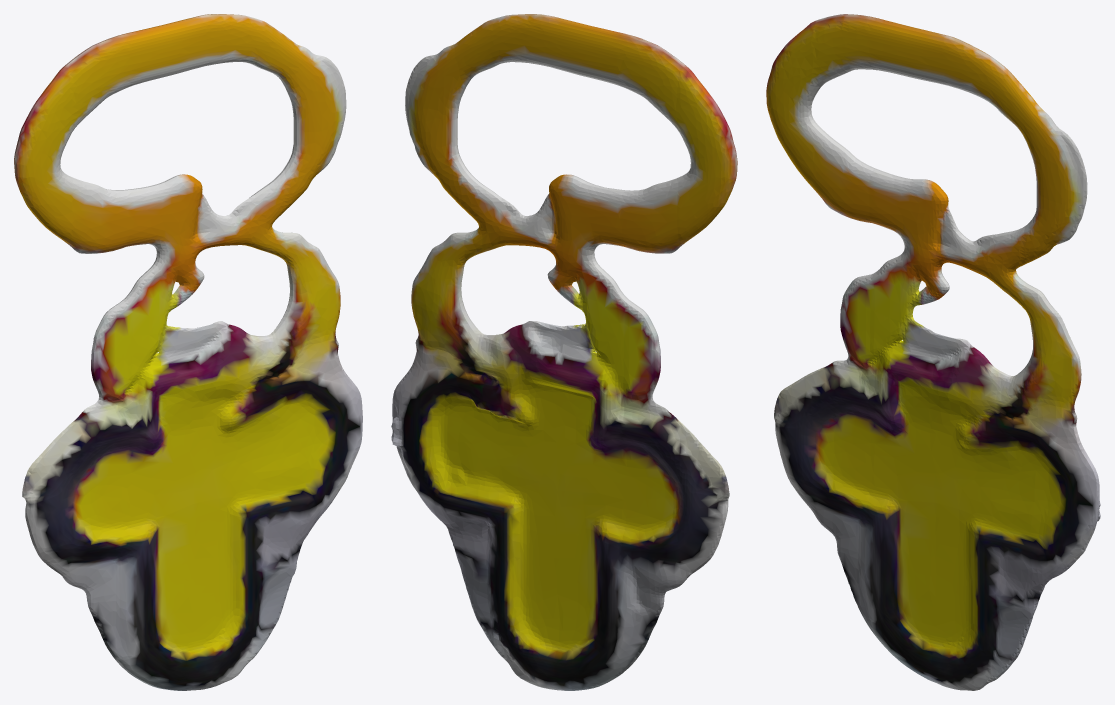
File: amulet_unholiness.glb
3 renders of one model, left to right at view 1: azimuth 30°, elevation 25°; view 2: azimuth 150°, elevation 25°; view 3: azimuth 330°, elevation 25°, orthographic. The views are drawn at different scales.
Visible parts, largest first — view 1: geometry_0; view 2: geometry_0; view 3: geometry_0.
Part boxes in pixels (x1,y1,x2,y2): geometry_0: (14, 14, 362, 690); geometry_0: (391, 14, 737, 690); geometry_0: (766, 14, 1100, 690).
Size of the model in its own units: 0.375 by 0.698 by 0.0243.
